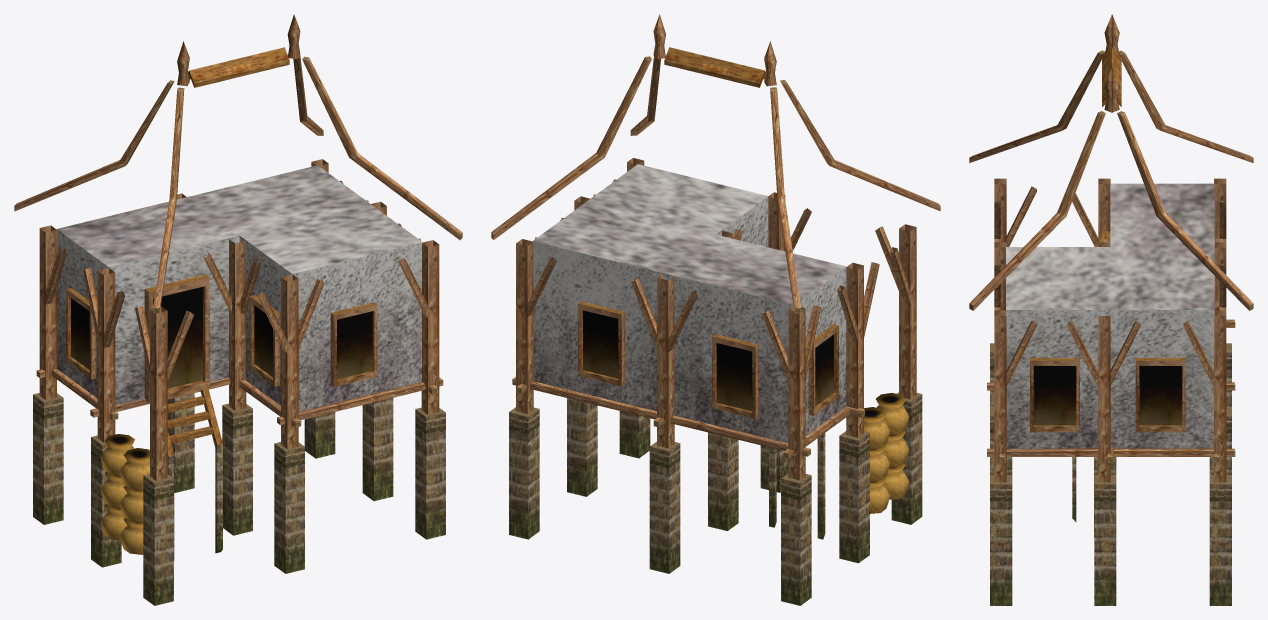
File: house_03.dae
3 views of the same model, side by side, from view 1: azimuth 30°, elevation 25°; view 2: azimuth 150°, elevation 25°; view 3: azimuth 270°, elevation 25° (orthographic).
Visible parts, largest first — view 1: house_3; view 2: house_3; view 3: house_3.
Boxes of the visible parts, <box> form: house_3: <box>14,14,462,605</box>; house_3: <box>491,14,940,605</box>; house_3: <box>969,14,1253,605</box>.
Size of the model in its own units: 12.3 by 9.85 by 19.07.
